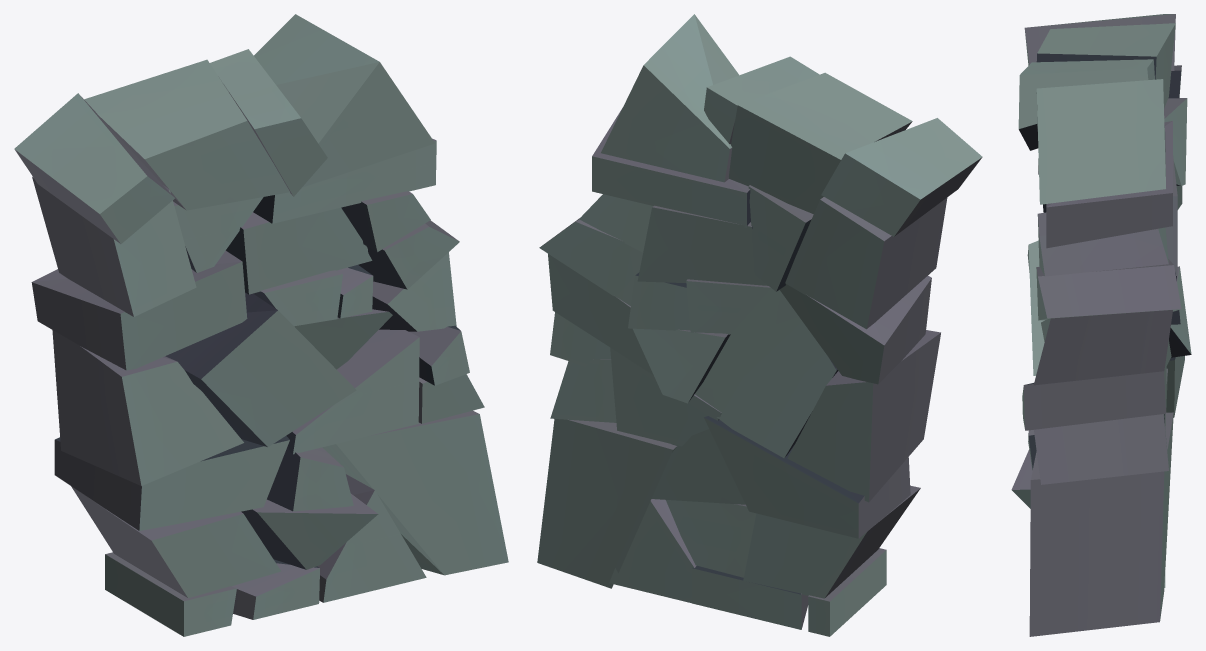
Rendered from wall2.fbx.
The picture shows the model from 3 angles, left to right: view 1: azimuth 30°, elevation 25°; view 2: azimuth 150°, elevation 25°; view 3: azimuth 270°, elevation 25°; orthographic projection. The views are drawn at different scales.
Visible parts, largest first — view 1: Cube.081; view 2: Cube.081; view 3: Cube.081.
Part boxes in pixels (x1=…): Cube.081: x1=14, y1=14, x2=508, y2=636; Cube.081: x1=537, y1=14, x2=982, y2=636; Cube.081: x1=1011, y1=14, x2=1191, y2=636.
Size of the model in its own units: 449 by 545 by 178.
